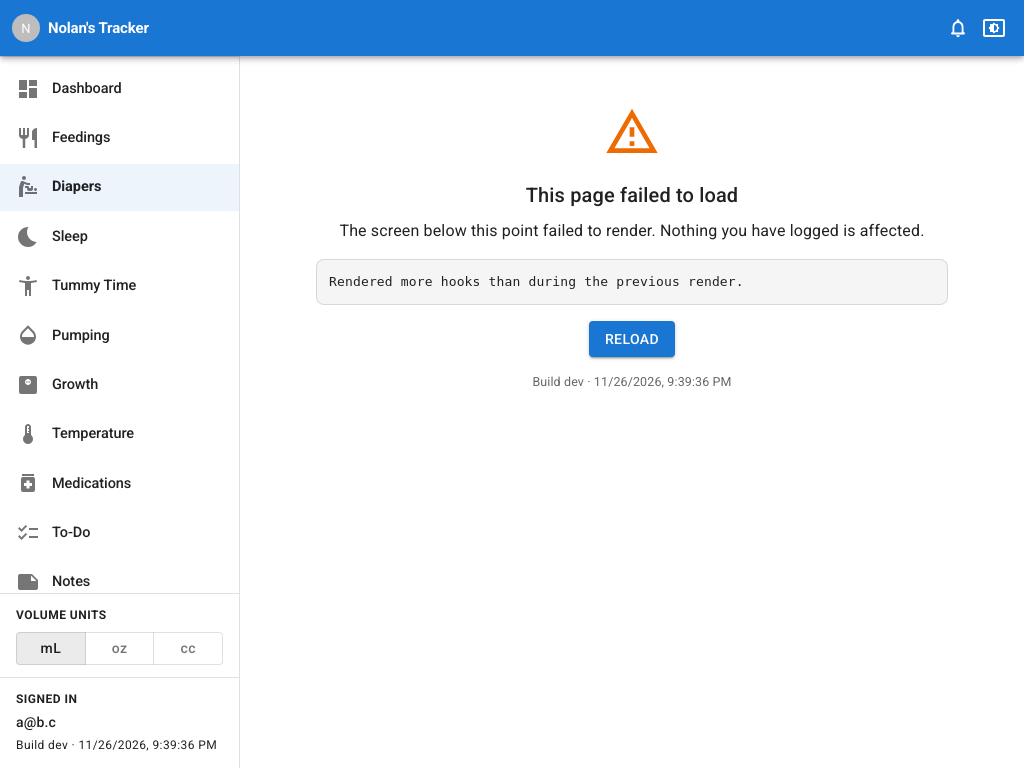
a page crashing inside the shell › leaves the nav in place so the user can get out
# The nav is the escape hatch the white screen took away.
Click the button "Feedings". click: (63, 138)
box: x1=16 y1=126 x2=110 y2=150
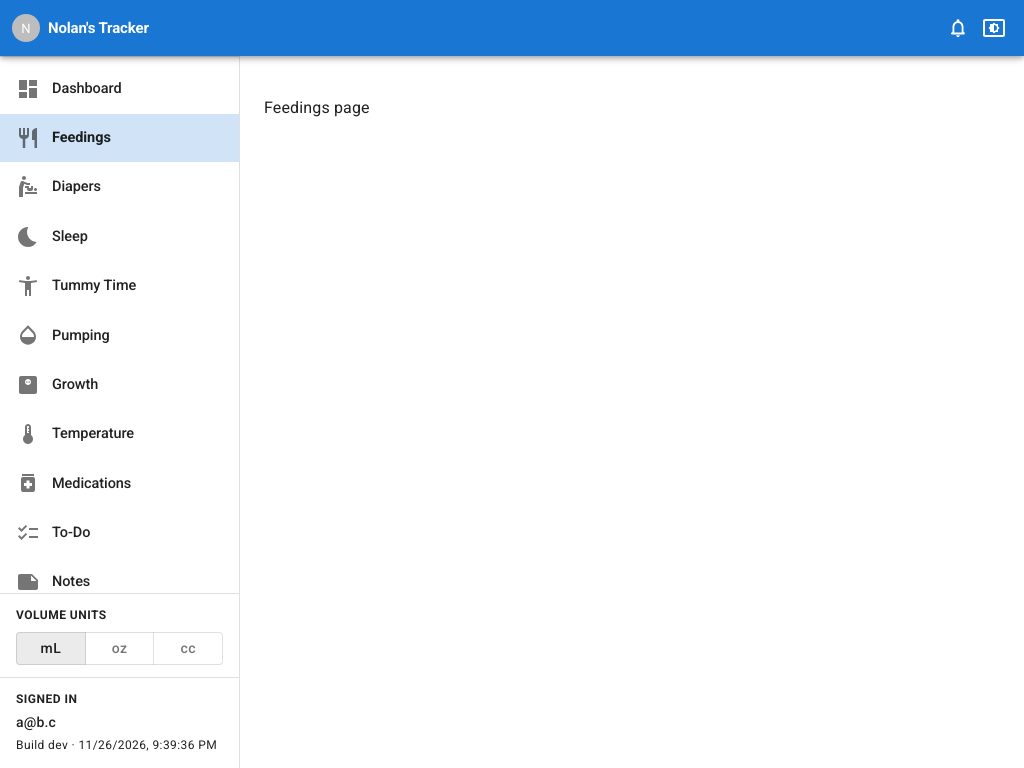
Check: the text "Feedings page" is shown, box x1=264 y1=98 x2=370 y2=117
Check: the heading "This page failed to load" is gone
